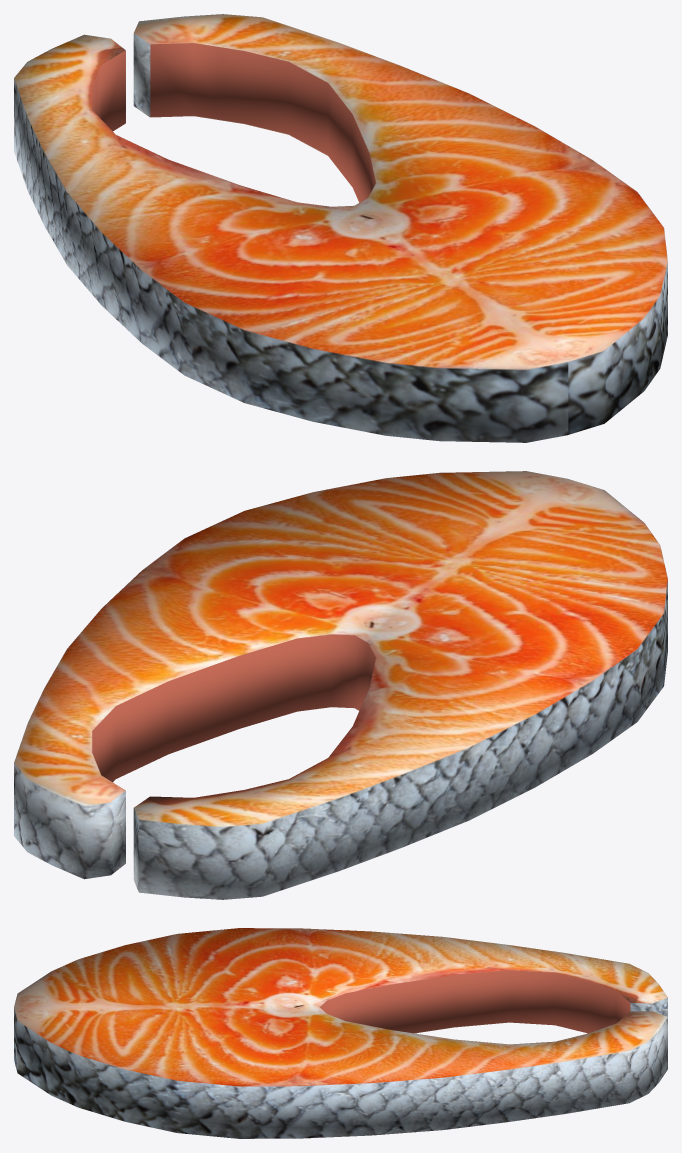
File: salmon1.fbx
3 views of the same model, one above another, from view 1: azimuth 30°, elevation 25°; view 2: azimuth 150°, elevation 25°; view 3: azimuth 270°, elevation 25° (orthographic). The views are drawn at different scales.
Visible parts, largest first — view 1: salmon; view 2: salmon; view 3: salmon.
Boxes of the visible parts, left/top/right/bottom form: salmon: left=14, top=14, right=667, bottom=442; salmon: left=14, top=471, right=667, bottom=899; salmon: left=14, top=928, right=667, bottom=1138.
Bounding box in the file's own units: 250 × 38.52 × 436.
Materials: 1 (1 with a texture image).
